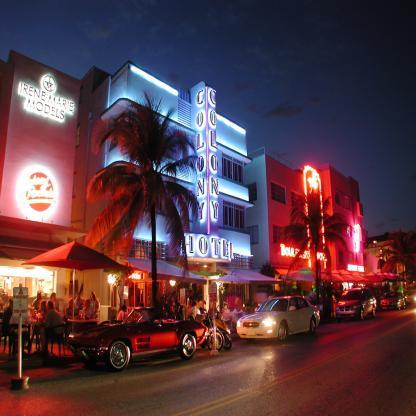car: (67, 304, 209, 372), (237, 290, 320, 343), (334, 285, 377, 321), (378, 290, 406, 312)
